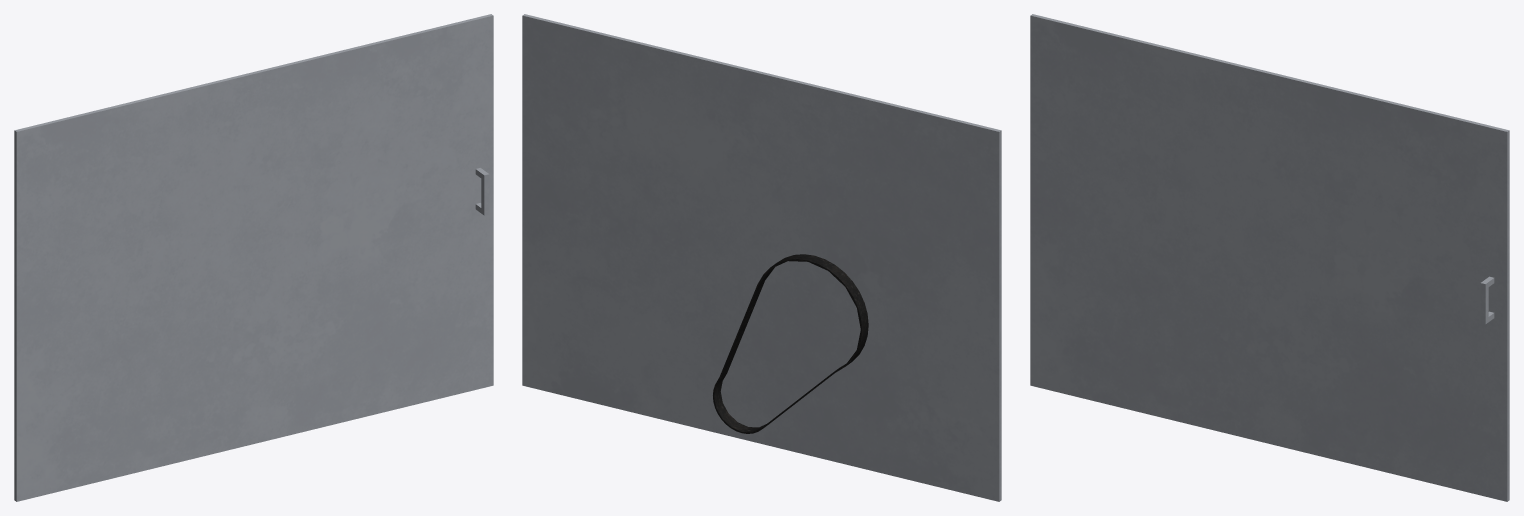
File: Door and band.fbx
3 views of the same model, side by side, from view 1: azimuth 30°, elevation 25°; view 2: azimuth 150°, elevation 25°; view 3: azimuth 330°, elevation 25° (orthographic).
Parts seen in each view (by area): view 1: Door Right.Low; view 2: Door Right.Low, Goede Band.001, Slechte band.001; view 3: Door Right.Low.
Boxes of the visible parts, left/top/right/bottom form: Door Right.Low: left=14, top=14, right=493, bottom=501; Door Right.Low: left=522, top=14, right=1001, bottom=501; Goede Band.001: left=713, top=254, right=868, bottom=433; Slechte band.001: left=713, top=260, right=861, bottom=433; Door Right.Low: left=1030, top=14, right=1509, bottom=501.
Bounding box in the file's own units: 189 × 140 × 16.67.
Materials: 2 (2 with a texture image).
